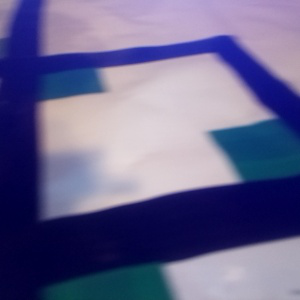bottom_right: (1, 220, 173, 300), (1, 57, 103, 101)
top_left: (209, 117, 300, 236)
